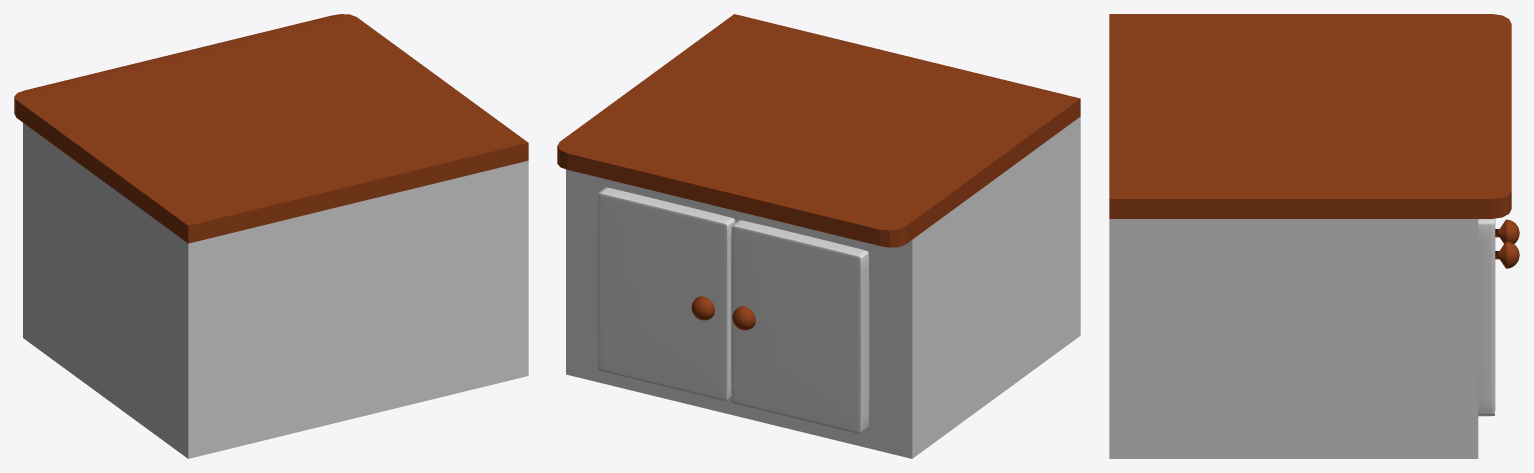
The model's file is fatdrawers.glb.
3 renders of one model, left to right at view 1: azimuth 30°, elevation 25°; view 2: azimuth 150°, elevation 25°; view 3: azimuth 270°, elevation 25°, orthographic. The views are drawn at different scales.
Parts seen in each view (by area): view 1: Cube.010; view 2: Cube.010, Cube.011; view 3: Cube.010, Cube.011.
Part boxes in pixels (x1,y1,x2,y2): Cube.010: (14,14,528,458); Cube.010: (557,14,1080,458); Cube.011: (597,187,869,433); Cube.010: (1109,14,1511,458); Cube.011: (1478,218,1519,416).
Bounding box in the file's own units: 0.9991 × 0.6543 × 0.9361.
